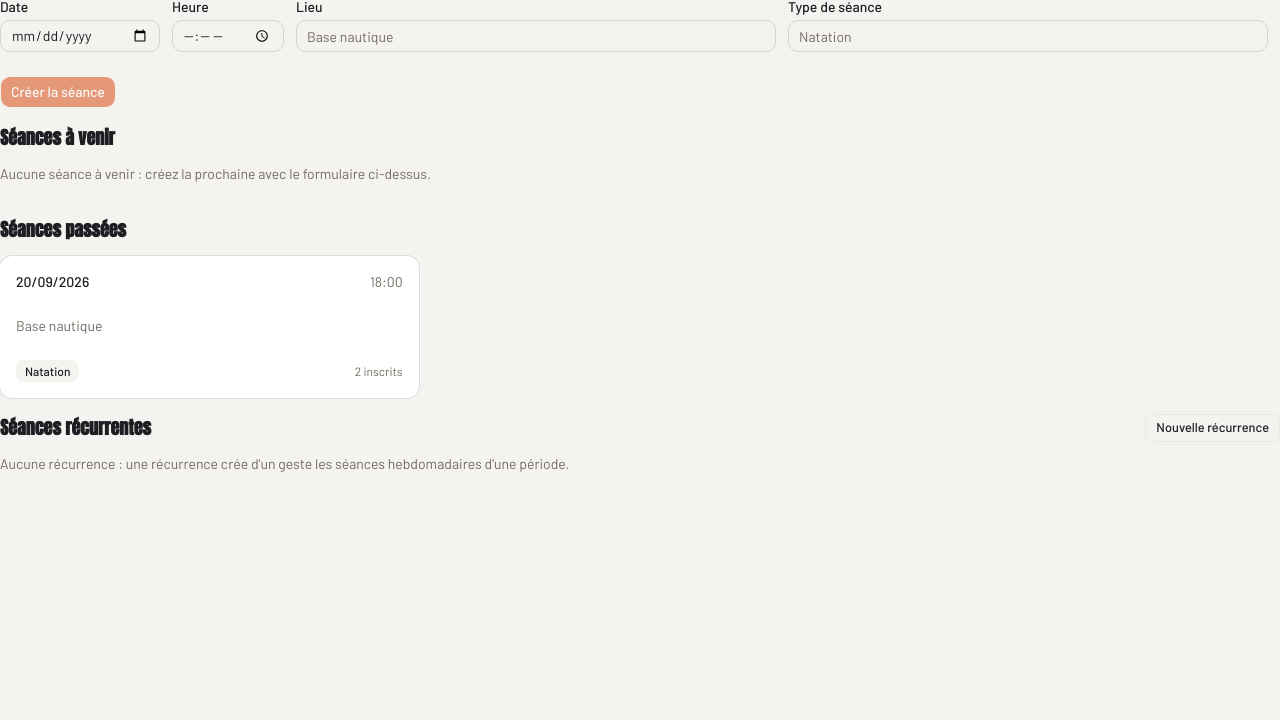
CalendrierEntrainements › supprime une séance après confirmation
Click the text "20/09/2026": (53, 282) [16,272,89,292]
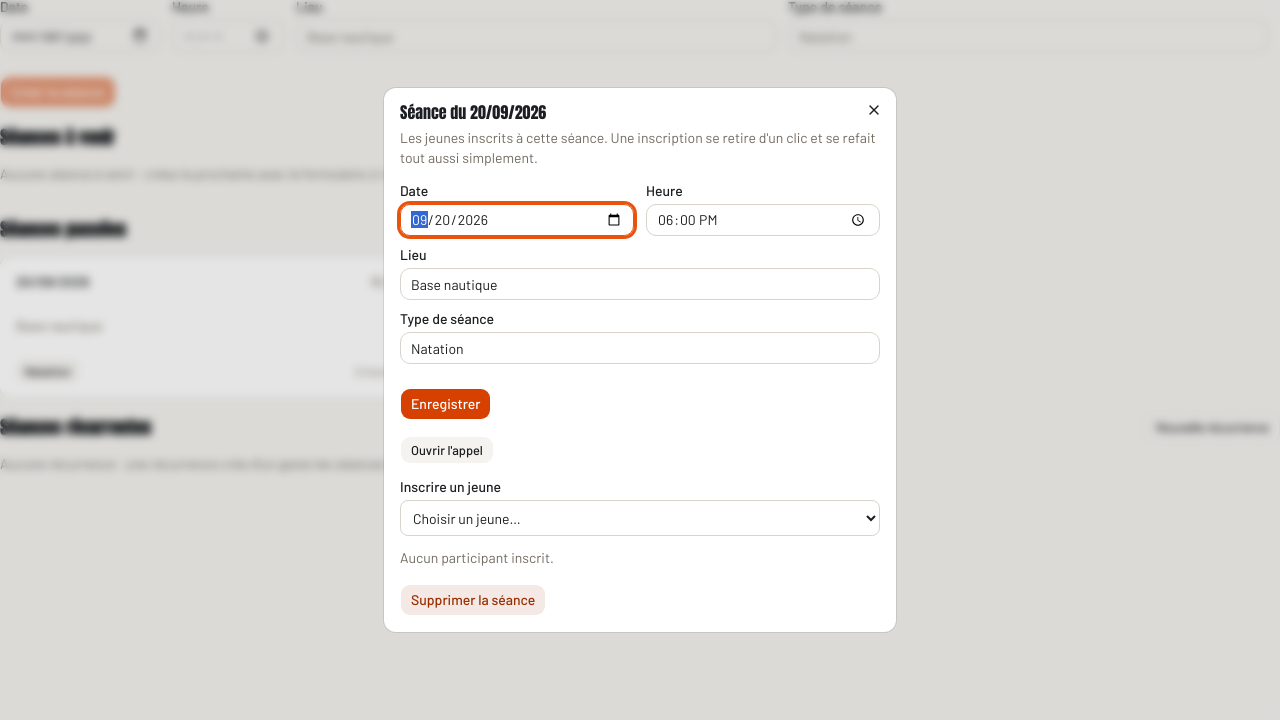
Click the button "Supprimer la séance": (473, 600) [400,584,546,616]
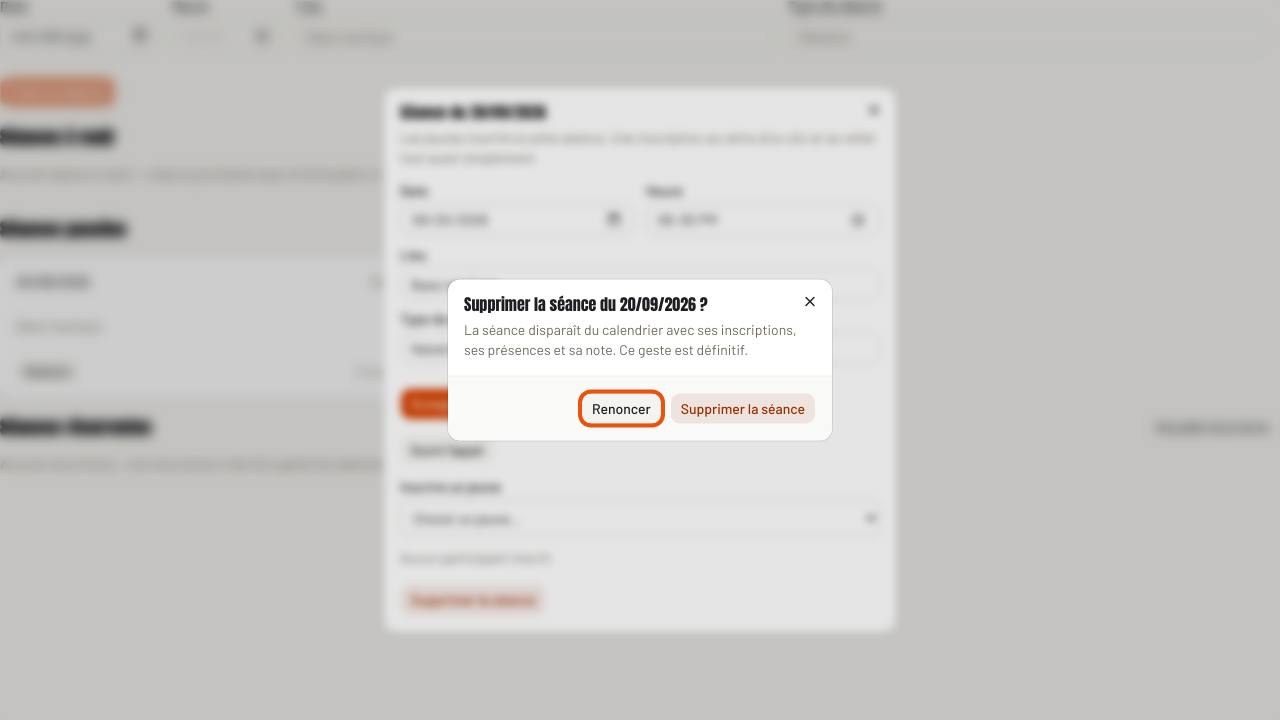
Click the button "Supprimer la séance": (743, 408) [670,392,816,424]
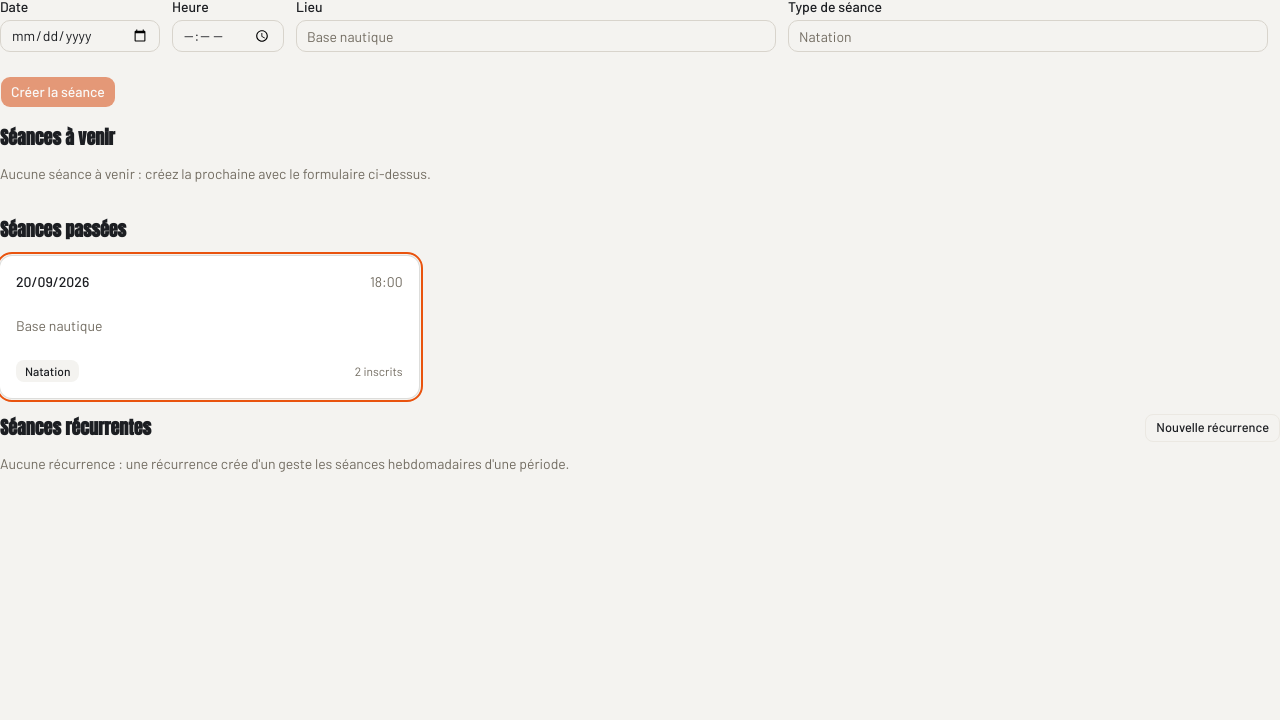
Expected: the dialog is gone
